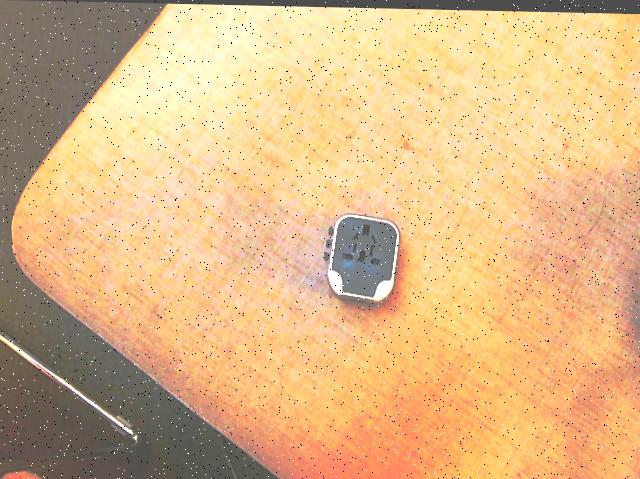adapter: (324, 211, 398, 303)
